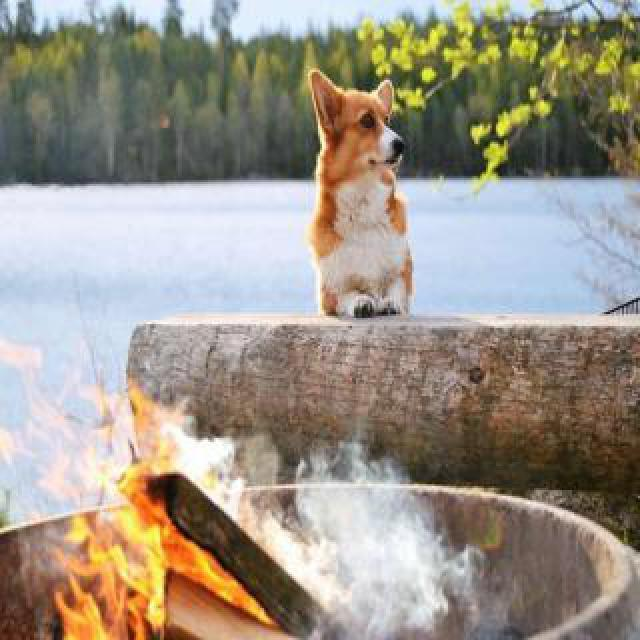Fire: (62, 464, 248, 638)
Smoke: (246, 386, 514, 638)
